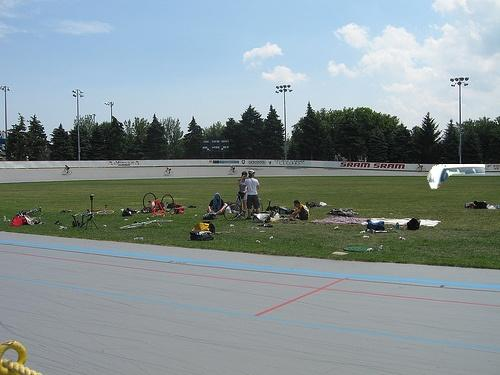tampered: (428, 165, 485, 189)
